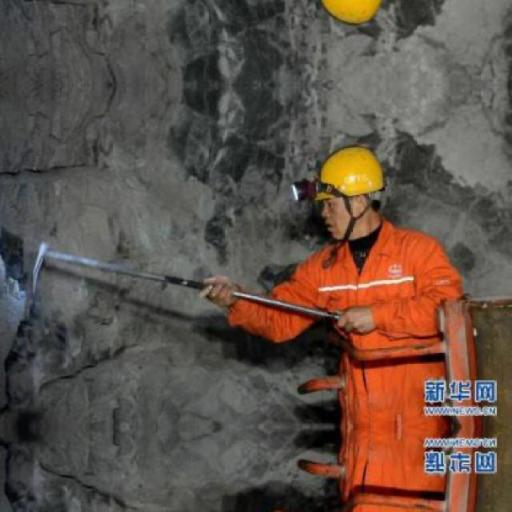Person: (173, 92, 486, 504)
helmet: (306, 140, 392, 206)
